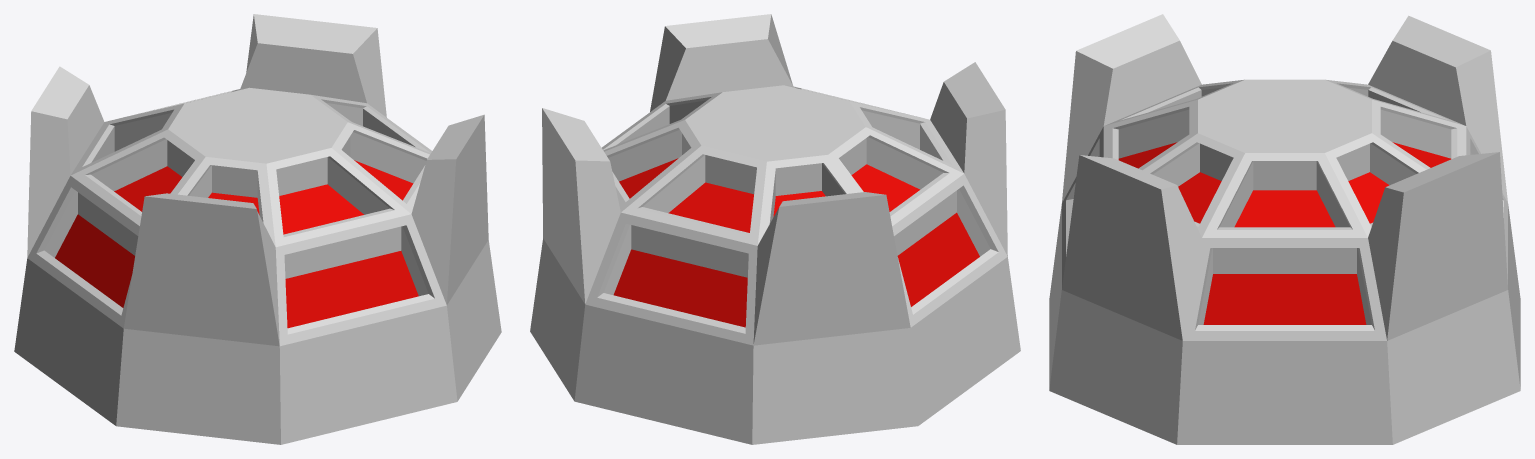
Rendered from Building1.fbx.
3 renders of one model, left to right at view 1: azimuth 30°, elevation 25°; view 2: azimuth 150°, elevation 25°; view 3: azimuth 270°, elevation 25°, orthographic. The views are drawn at different scales.
Visible parts, largest first — view 1: Cube; view 2: Cube; view 3: Cube.
Part boxes in pixels (bbox=[...]): Cube: bbox=[14, 14, 501, 444]; Cube: bbox=[530, 14, 1020, 444]; Cube: bbox=[1049, 14, 1520, 444].
Bounding box in the file's own units: 200 × 114 × 200.
